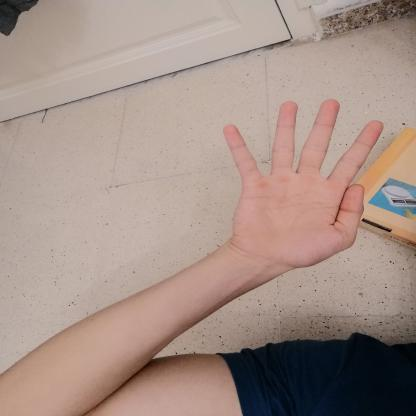SHEEN: (208, 91, 394, 274)
